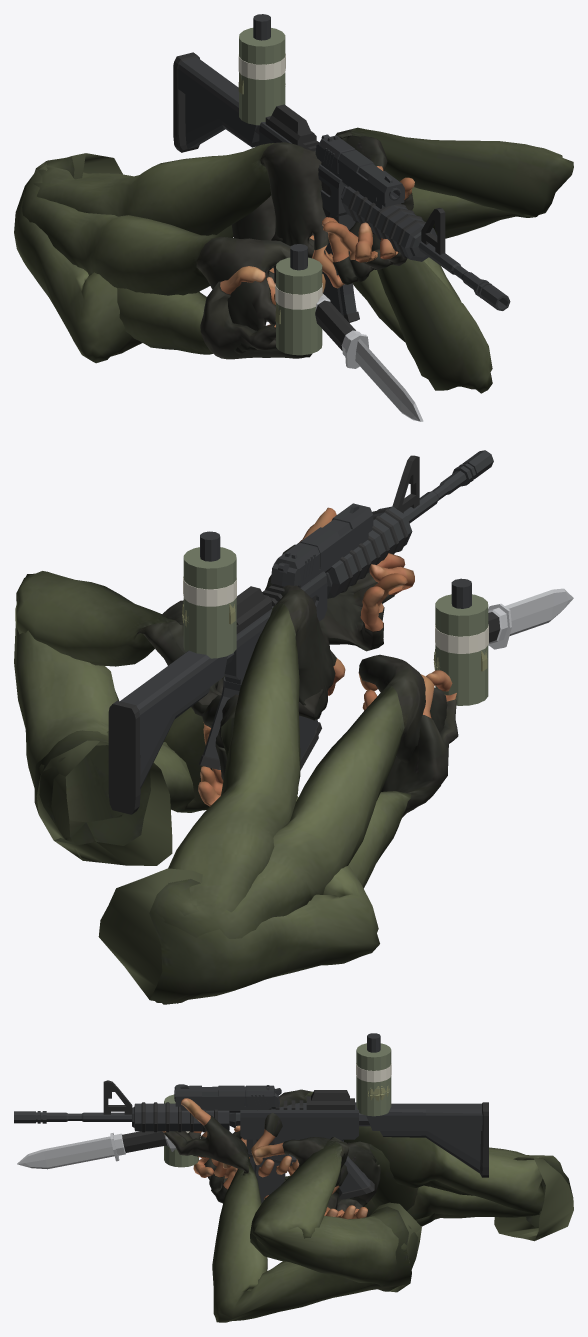
File: viewmodel.glb
3 views of the same model, one above another, from view 1: azimuth 30°, elevation 25°; view 2: azimuth 150°, elevation 25°; view 3: azimuth 270°, elevation 25° (orthographic). The views are drawn at different scales.
Parts seen in each view (by area): view 1: Arms_Pistol, Arms_Rifle, Arms_Knife, VM_M4, Arms_Frag, VM_Smoke.001, Proj_Smoke, VM_Knife, VM_Pistol; view 2: Arms_Pistol, Arms_Rifle, Arms_Knife, VM_M4, Arms_Frag, Proj_Smoke, VM_Smoke.001, VM_Pistol, VM_Knife; view 3: Arms_Pistol, Arms_Rifle, VM_M4, Arms_Frag, VM_Knife, Proj_Smoke, VM_Pistol, Arms_Knife, VM_Smoke.001.
Part boxes in pixels (x1,y1,x2,y2): Arms_Pistol: [33, 127, 573, 288]; Arms_Rifle: [14, 153, 492, 393]; Arms_Knife: [22, 158, 325, 354]; VM_M4: [173, 52, 510, 322]; Arms_Frag: [46, 156, 312, 359]; VM_Smoke.001: [275, 244, 322, 355]; Proj_Smoke: [238, 14, 285, 125]; VM_Knife: [315, 293, 423, 421]; VM_Pistol: [315, 134, 404, 217]; Arms_Pistol: [14, 571, 345, 1003]; Arms_Rifle: [34, 507, 414, 1002]; Arms_Knife: [142, 654, 447, 1004]; VM_M4: [108, 450, 493, 814]; Arms_Frag: [155, 670, 458, 1003]; Proj_Smoke: [183, 531, 236, 658]; VM_Smoke.001: [435, 578, 488, 705]; VM_Pistol: [270, 503, 373, 602]; VM_Knife: [488, 588, 573, 649]; Arms_Pistol: [235, 1089, 557, 1292]; Arms_Rifle: [162, 1098, 573, 1322]; VM_M4: [14, 1080, 488, 1203]; Arms_Frag: [198, 1125, 552, 1223]; VM_Knife: [17, 1131, 176, 1169]; Proj_Smoke: [356, 1033, 391, 1116]; VM_Pistol: [174, 1085, 281, 1145]; Arms_Knife: [193, 1130, 562, 1195]; VM_Smoke.001: [164, 1084, 198, 1167].
Size of the model in its own units: 0.6122 by 0.4783 by 0.9902.
8 materials, 3 textured.
